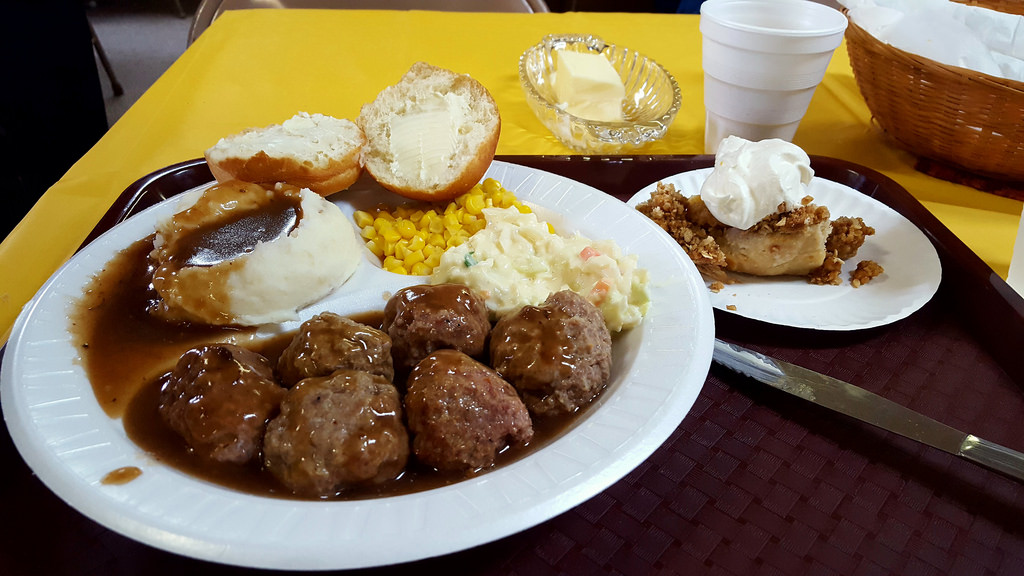meatballs: (152, 349, 552, 470), (373, 75, 509, 193), (227, 116, 370, 201)
